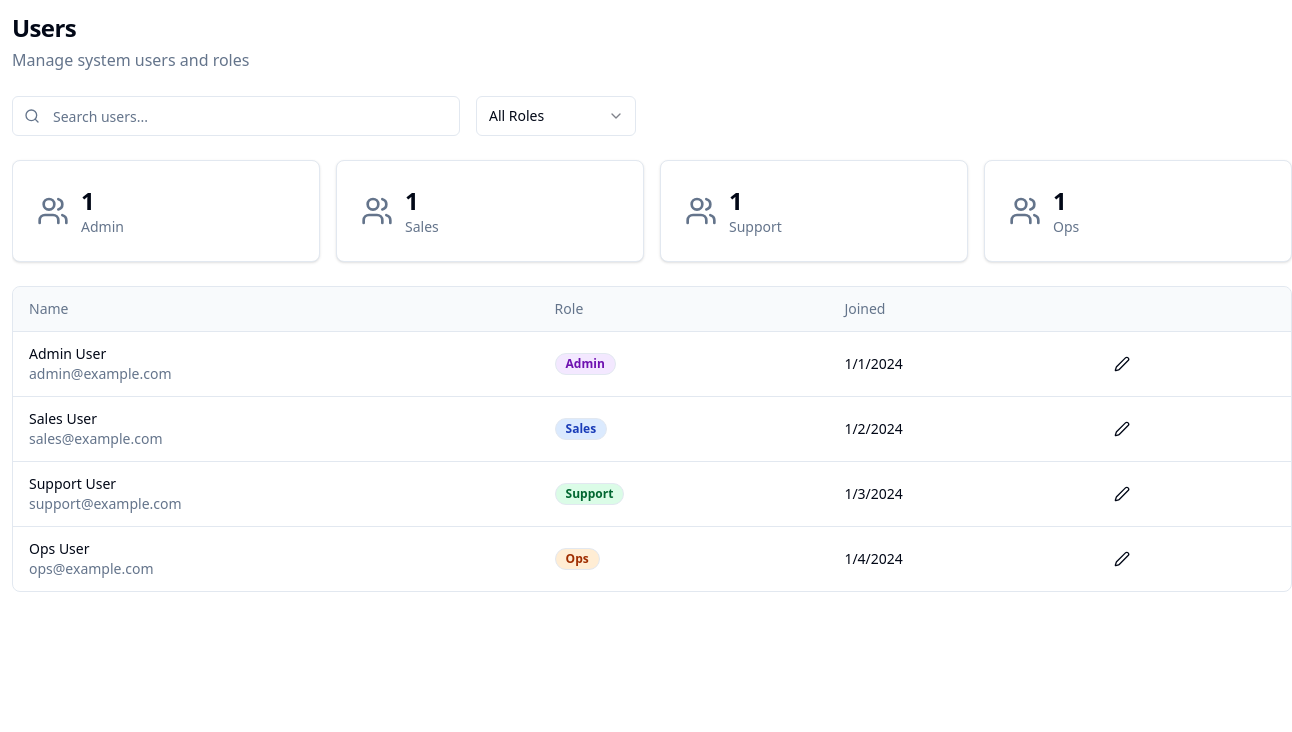
Test: UsersPage › should filter users by role
Select "Sales" in the dropdown showing "All Roles" at {"x": 556, "y": 116}, box left=476, top=96, right=636, bottom=136
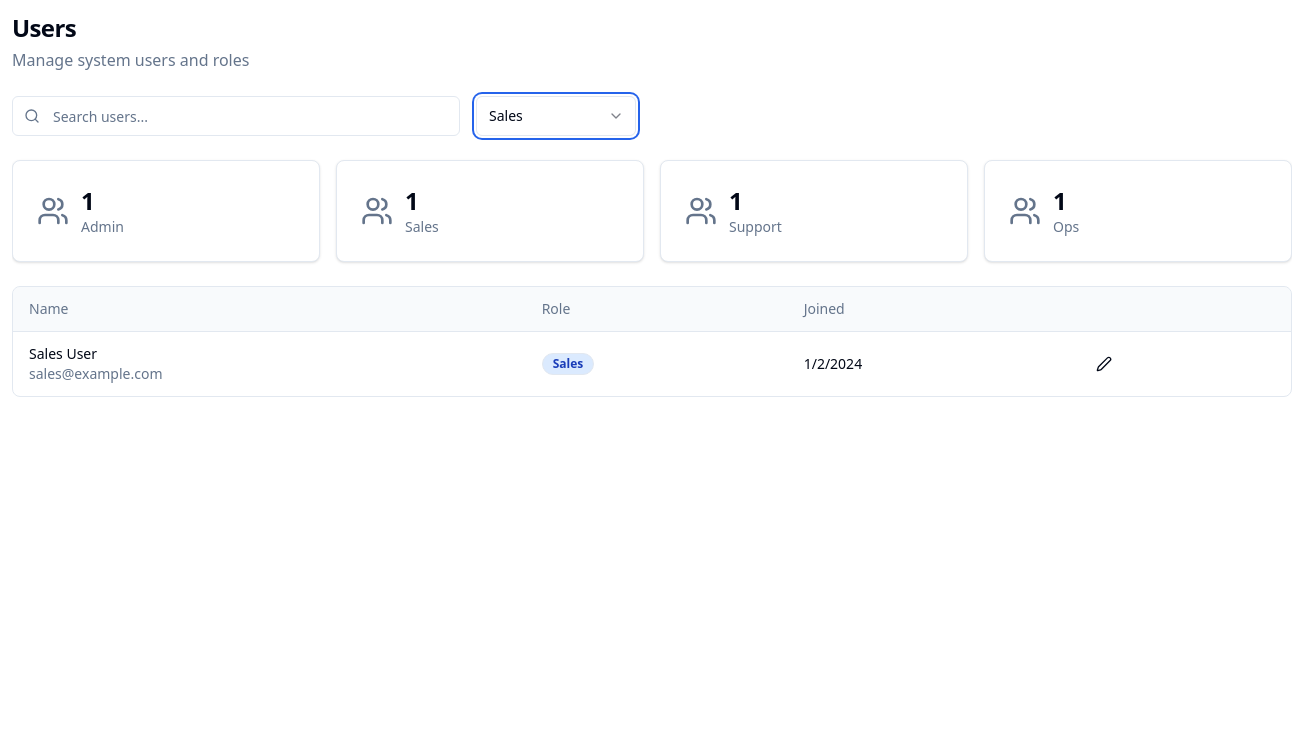
Expected: the text "Sales User" is shown, left=29, top=344, right=97, bottom=363
Now the text "Admin User" is gone
